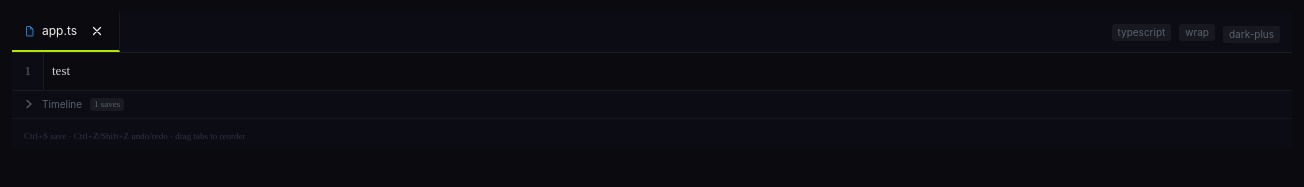
it: CodeEditor › shows save error on API failure
Replace the text in the text box with test id "editor-textarea" with "modified": (668, 71) [44,53,1292,90]
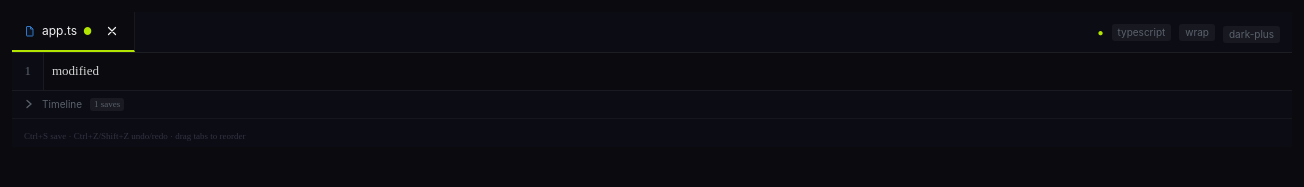
Trigger Ctrl+S
Press s
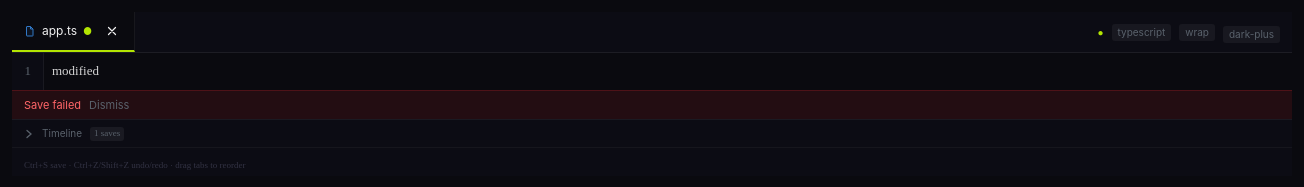
Expected: the element with test id "editor-error" is shown, [12,90,1292,119]
